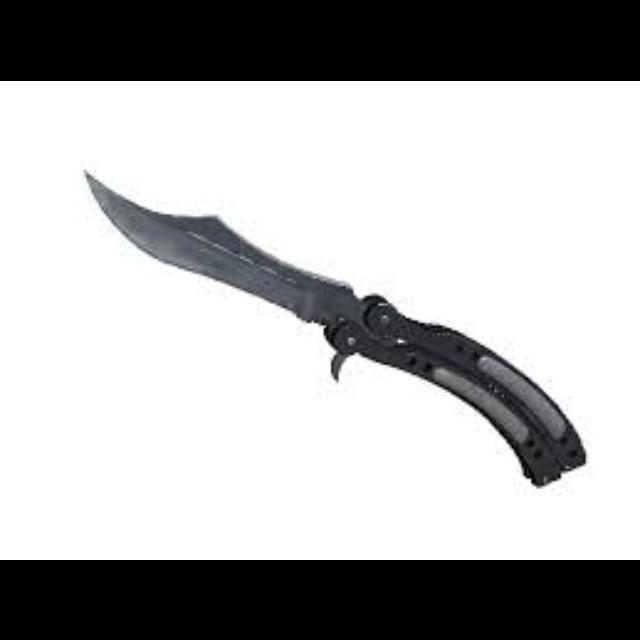knife: (82, 167, 586, 485)
